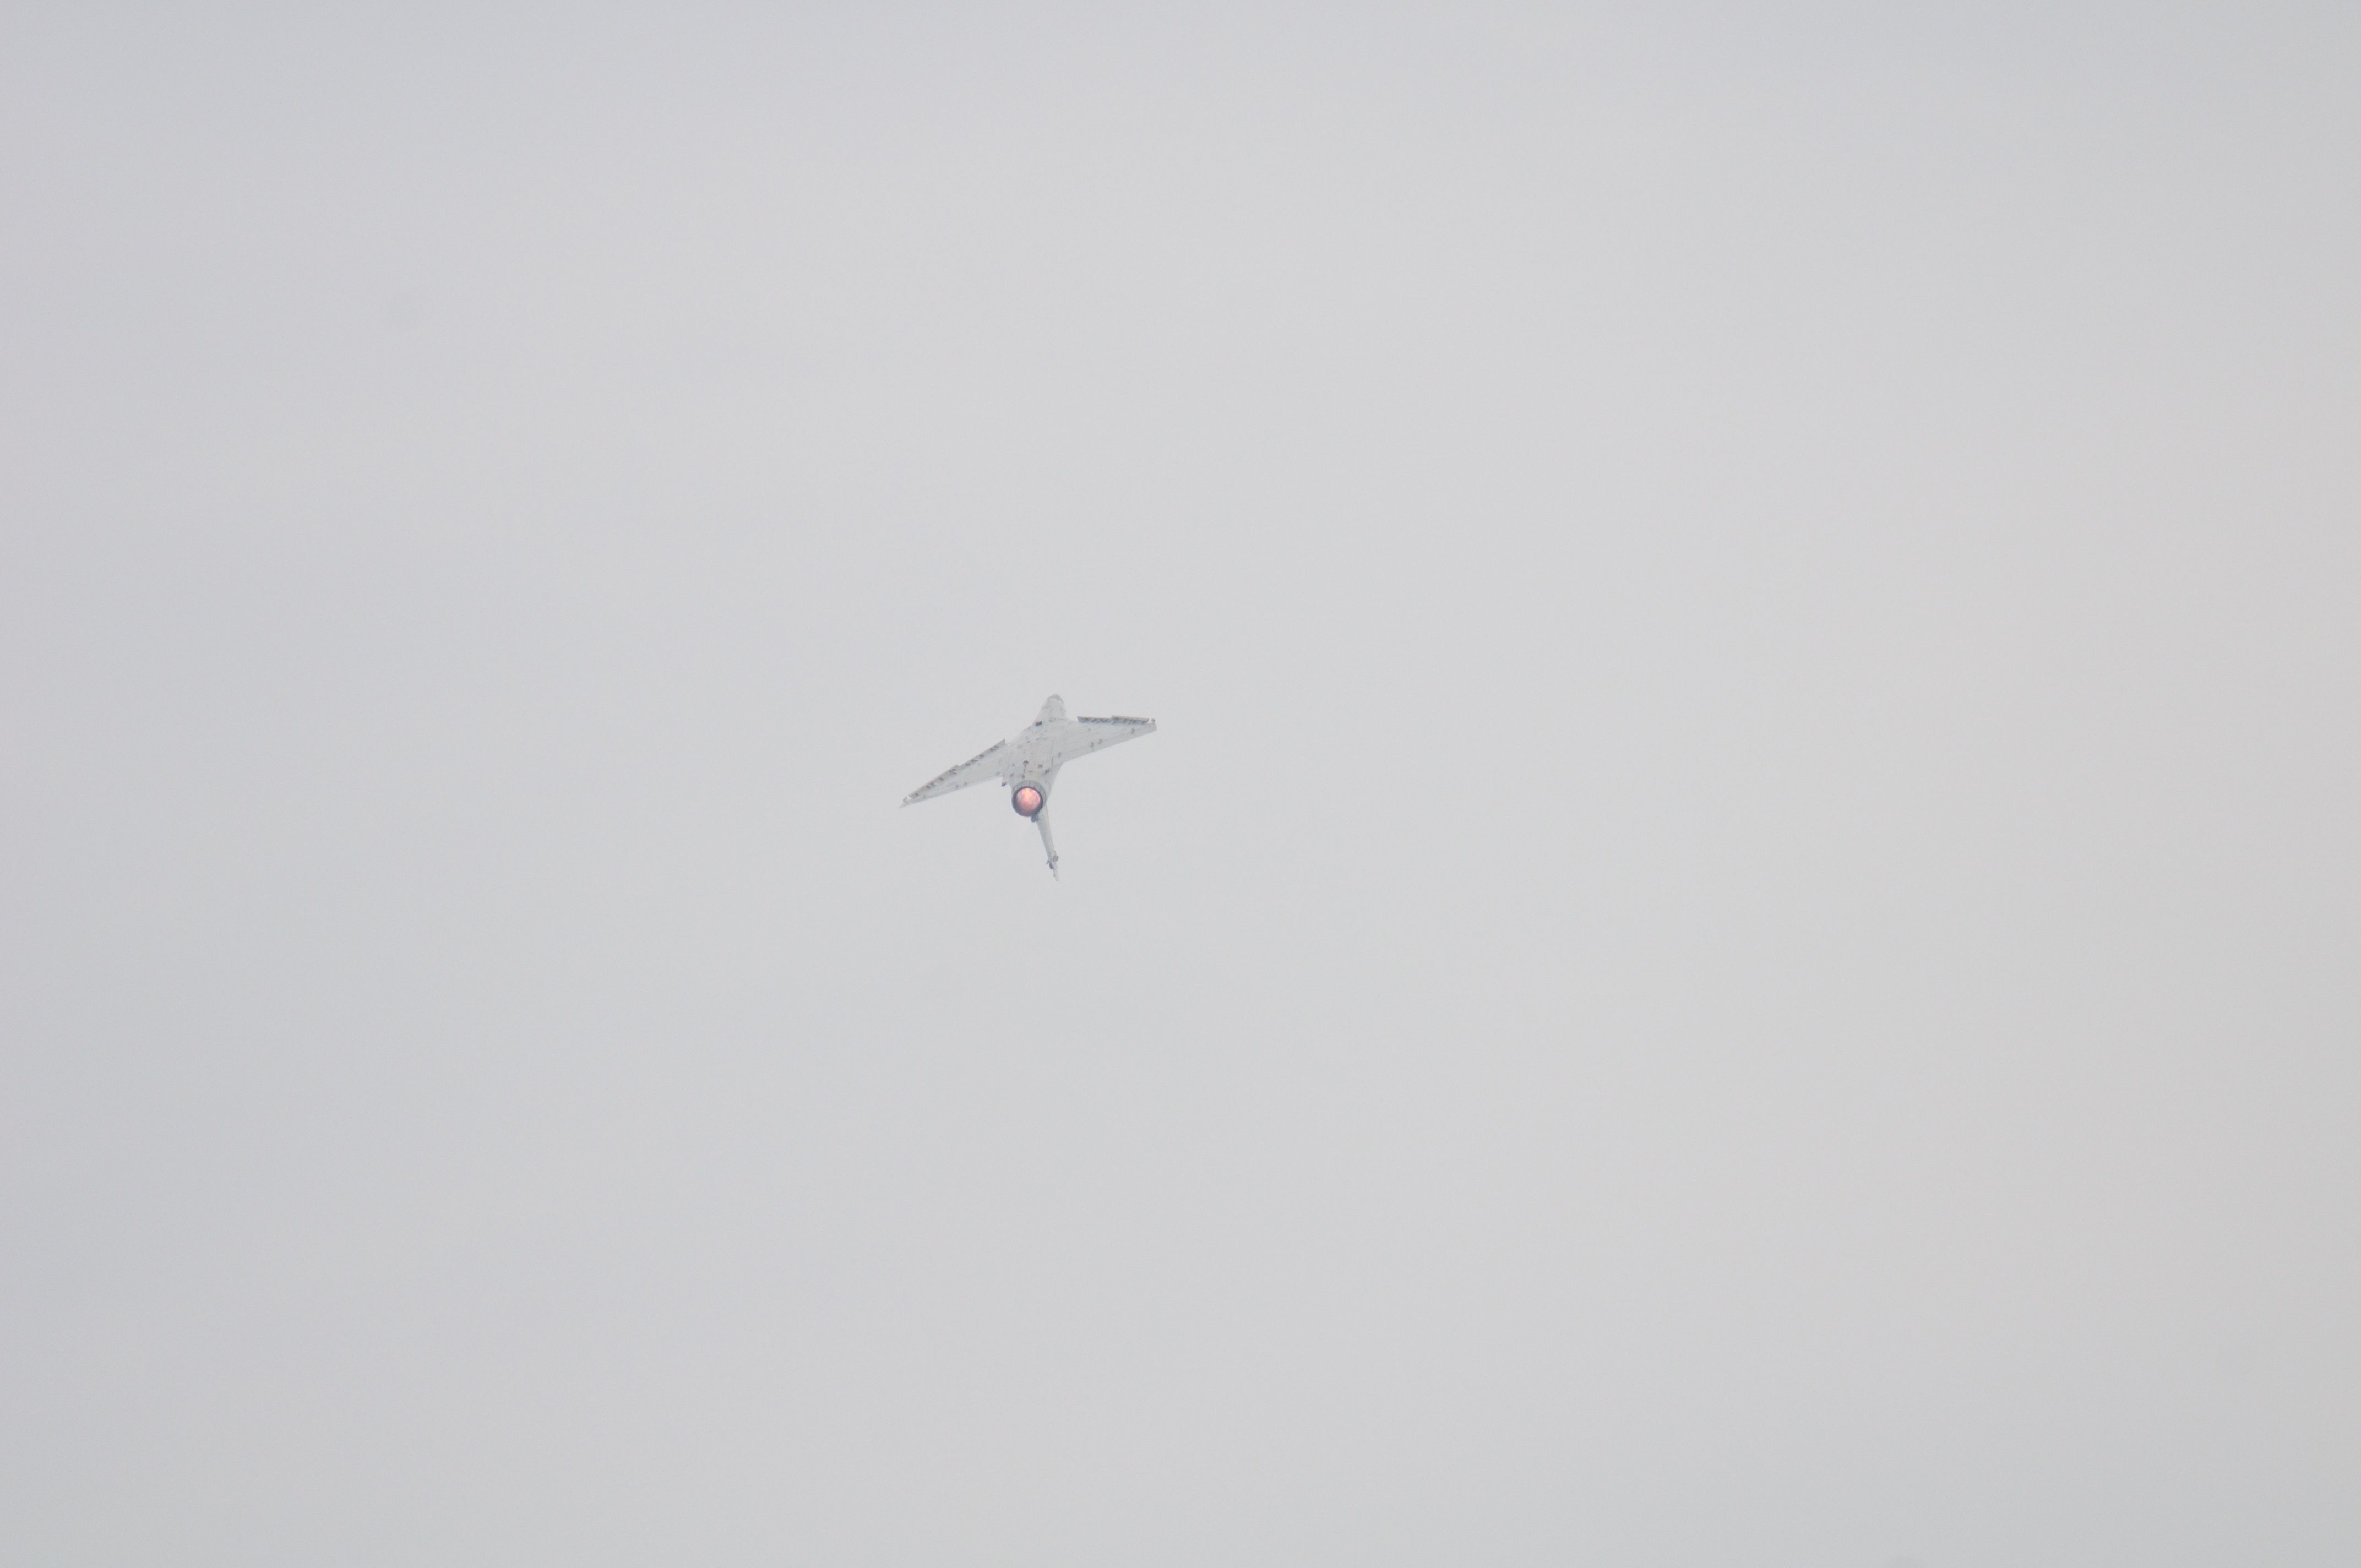Mirage2000: (898, 693, 1157, 882)
